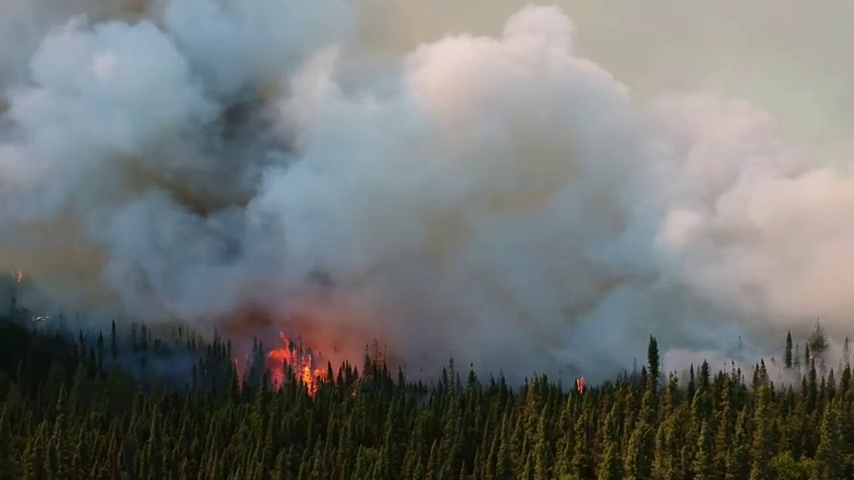forest_fire: (265, 332, 331, 396), (572, 377, 586, 393)
